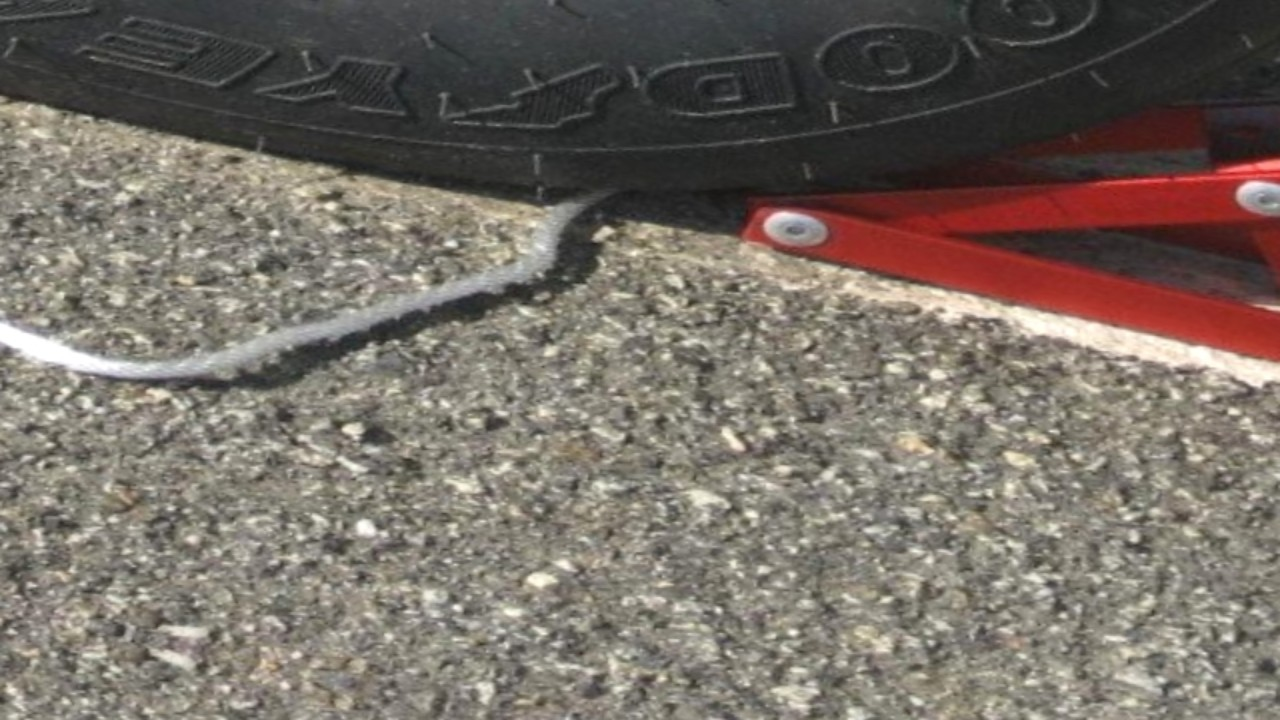chock: (707, 8, 1280, 392)
